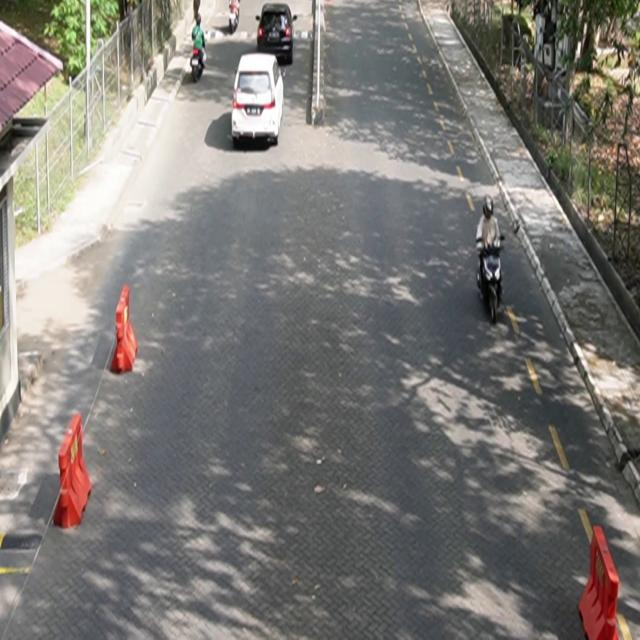car: (232, 53, 285, 147), (257, 2, 299, 66)
